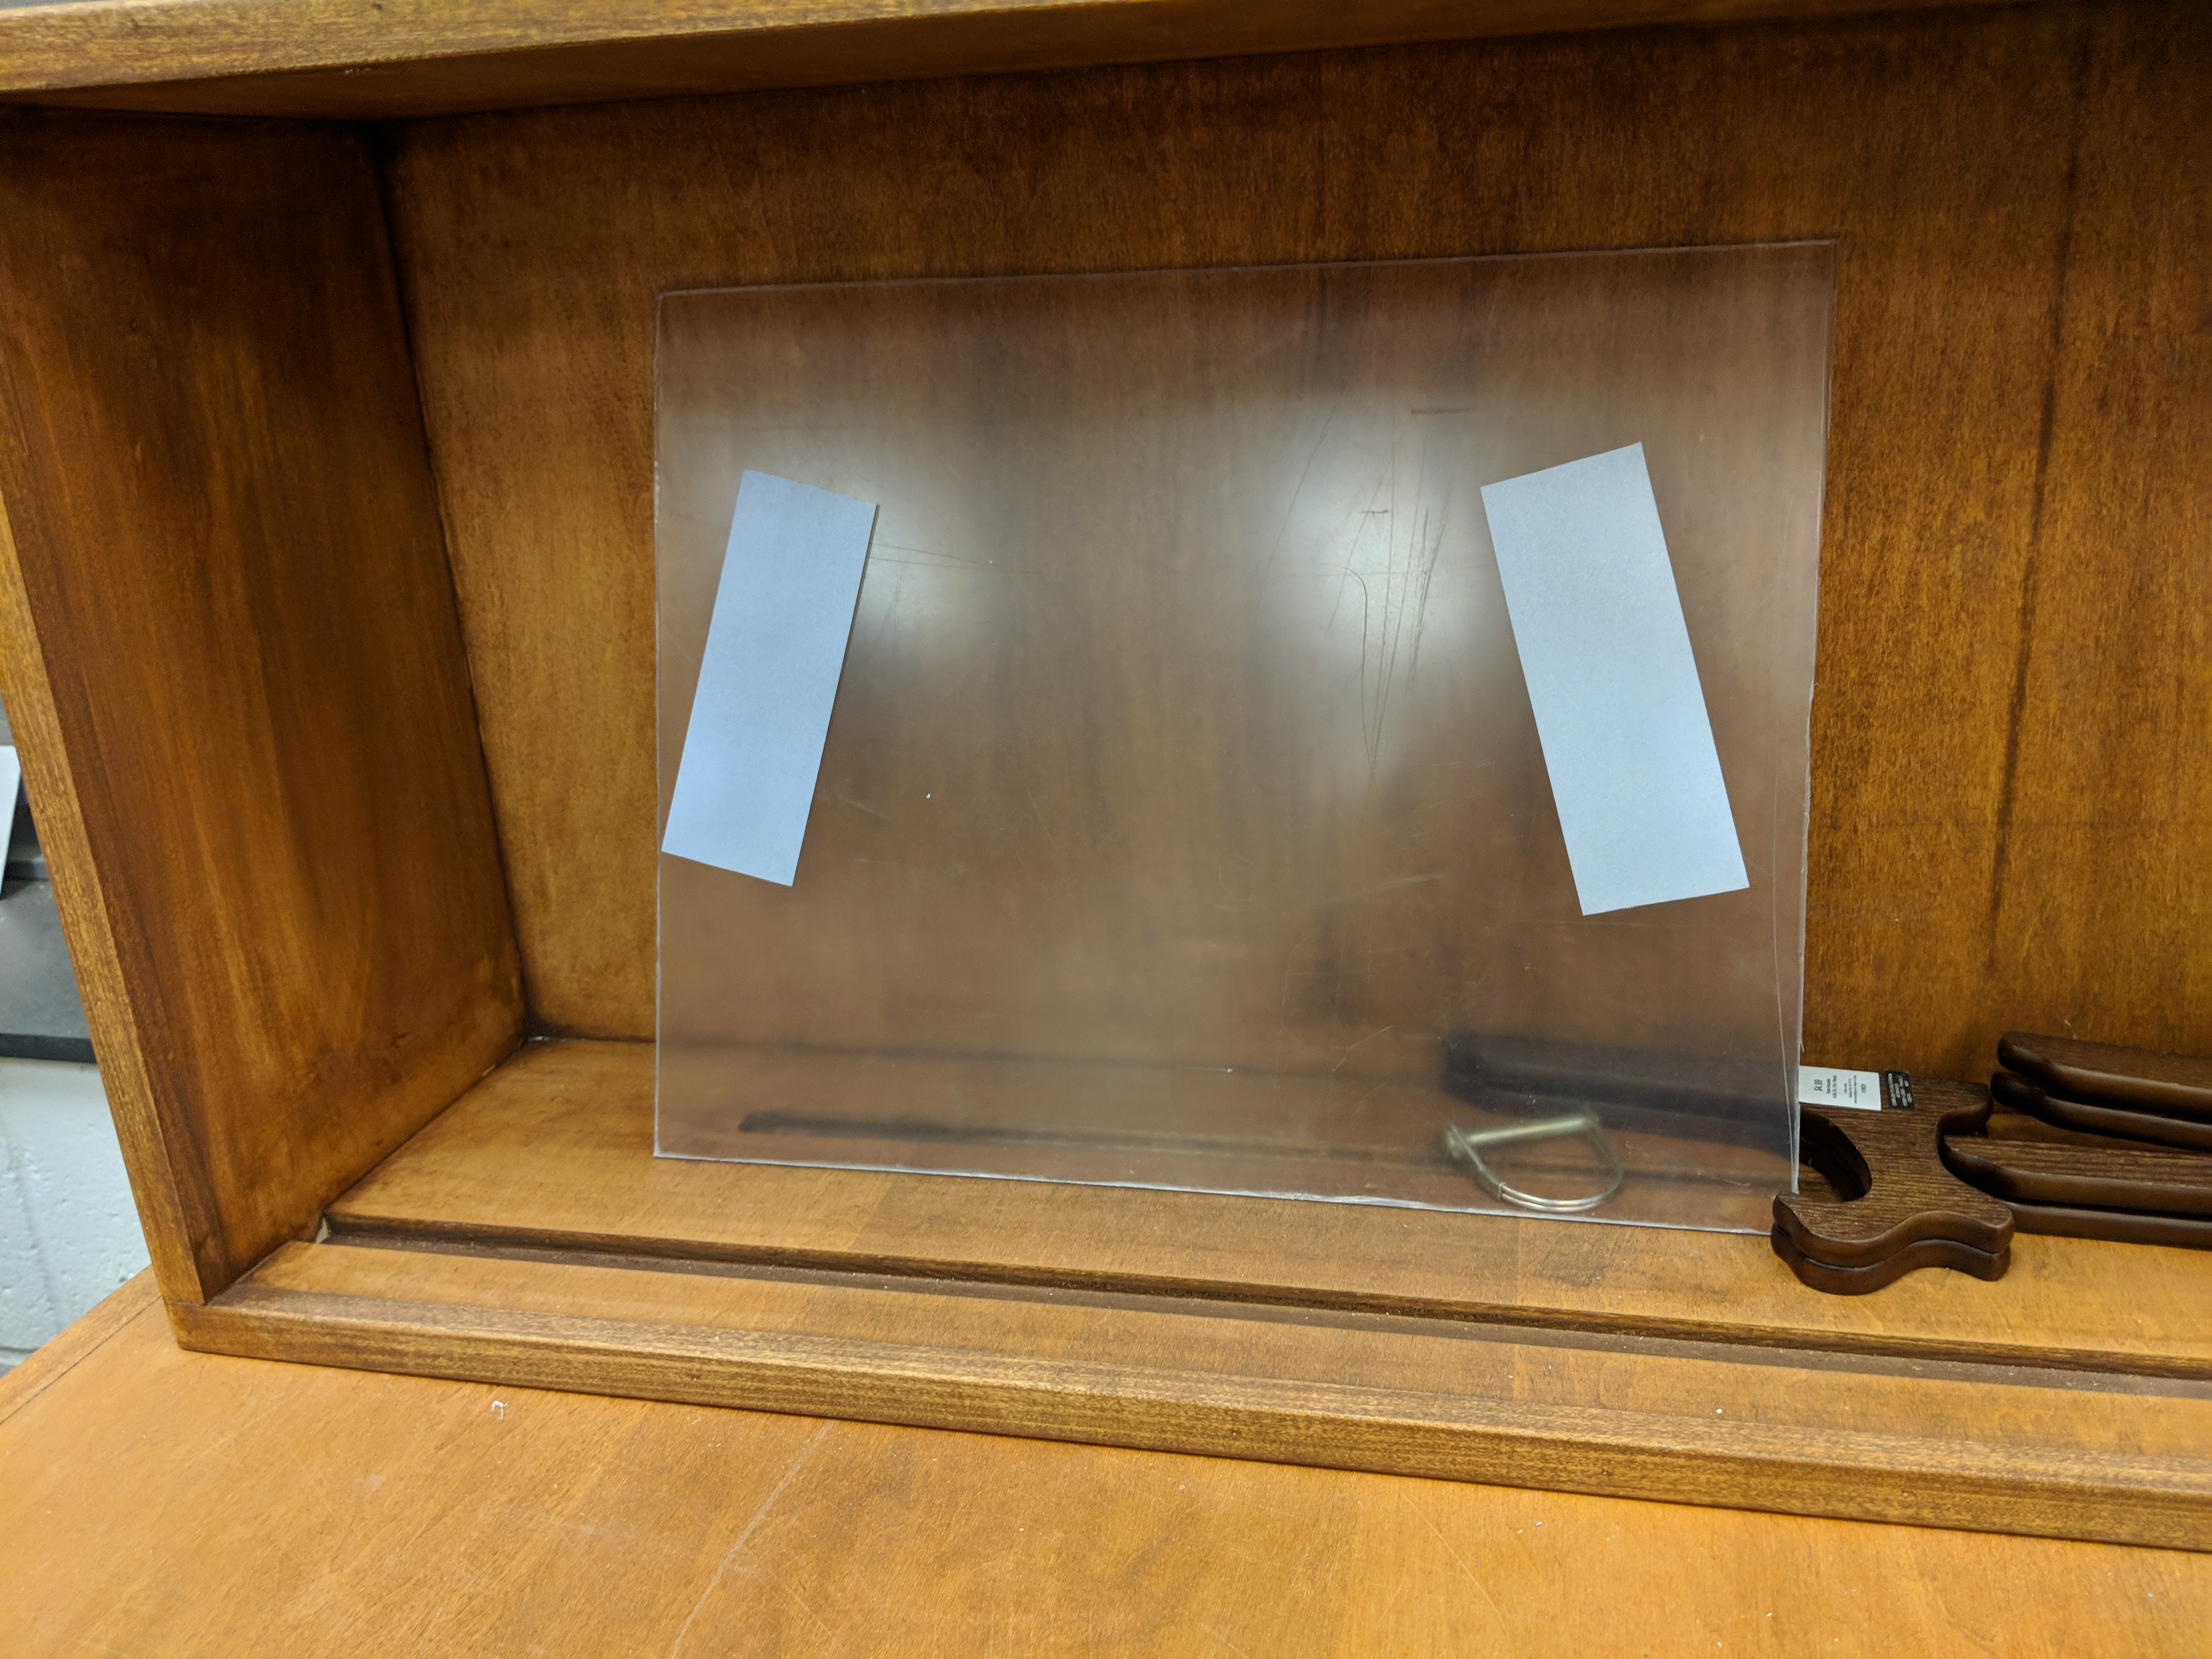vision_target: (644, 432, 1763, 945)
